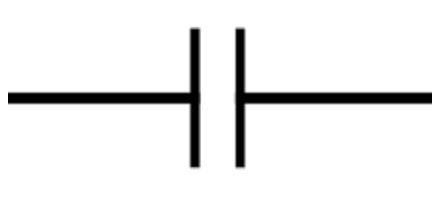Capacitor: (155, 17, 285, 175)
